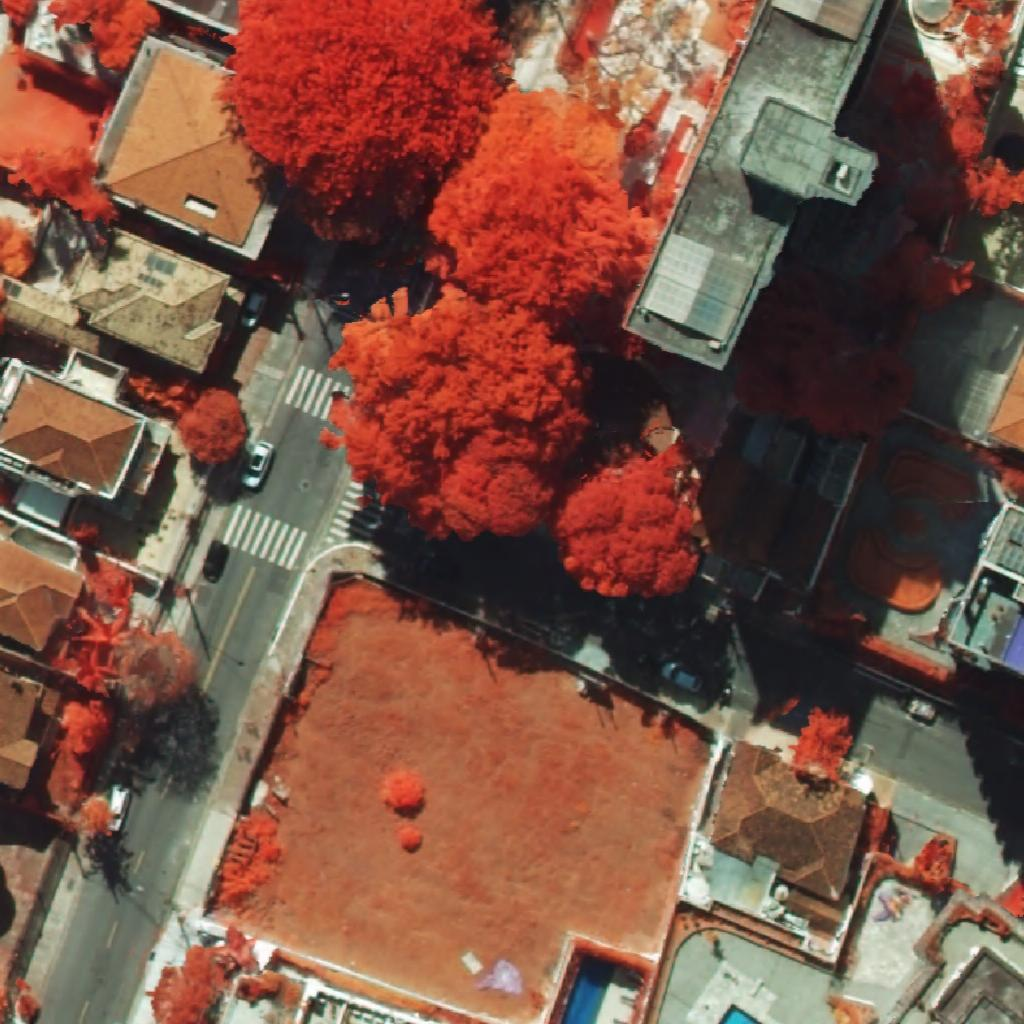pool: (561, 957, 616, 1024), (1003, 615, 1024, 671)
